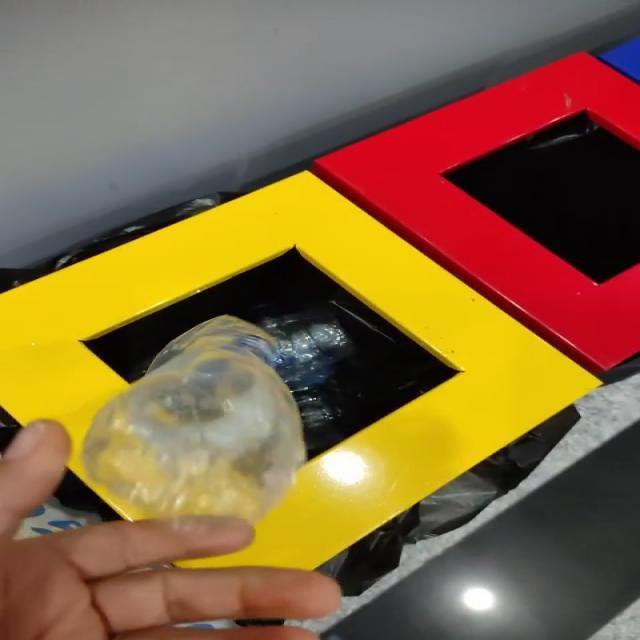Plastic: (83, 316, 305, 523)
